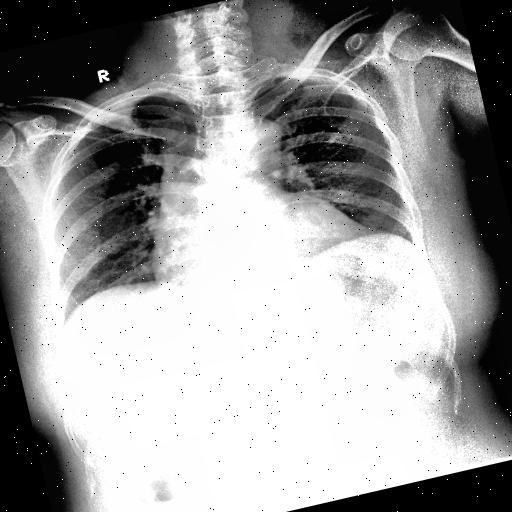3- Cardiomegaly: (144, 189, 364, 302), (150, 210, 378, 304)
7- Lung Opacity: (146, 112, 210, 214)
9- Other lesion: (146, 112, 210, 214)
